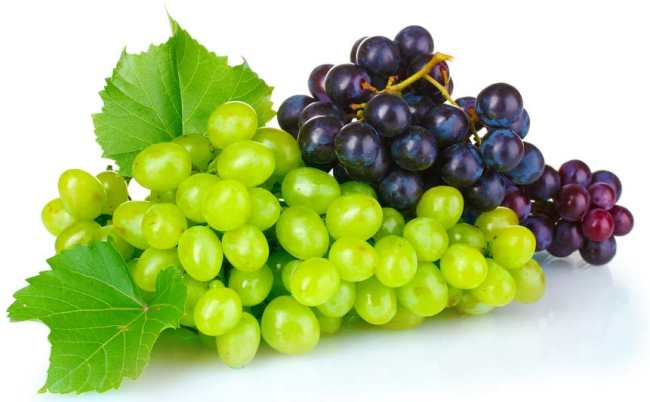Black grapes: (307, 40, 633, 258)
Green grapes: (63, 155, 522, 327)
